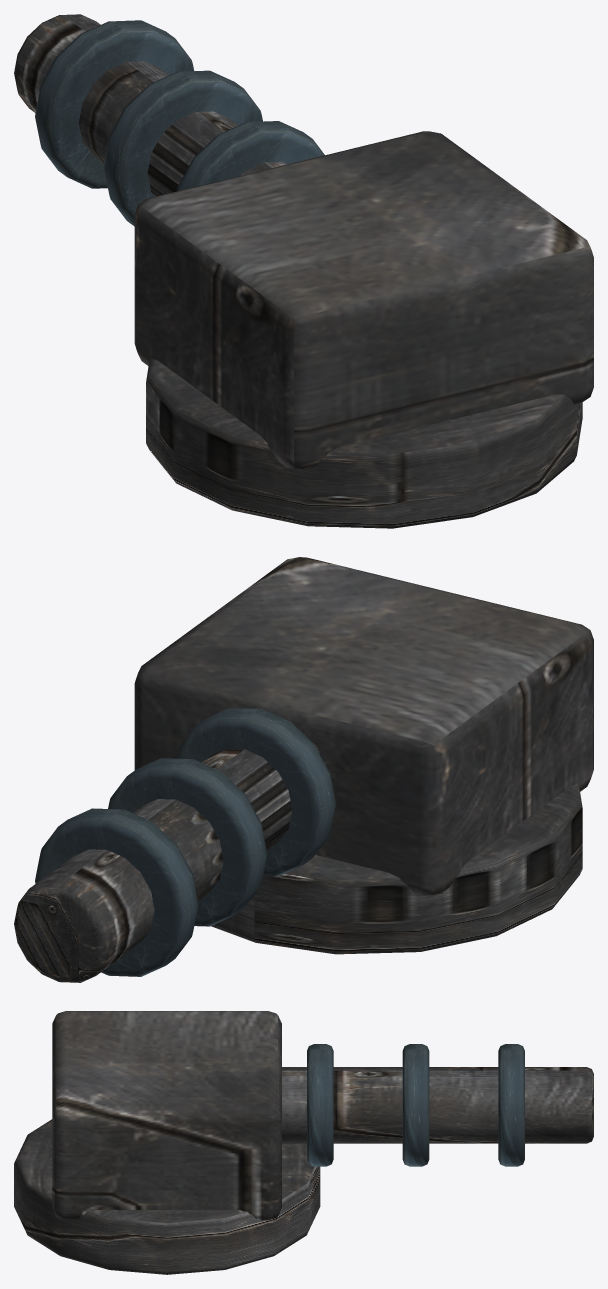
File: weapon-retro.gltf
3 views of the same model, one above another, from view 1: azimuth 30°, elevation 25°; view 2: azimuth 150°, elevation 25°; view 3: azimuth 270°, elevation 25° (orthographic). The views are drawn at different scales.
Parts seen in each view (by area): view 1: Pulse receiver, Turret ring.002, Ion barrel, Pulse coils.002, Pulse coils.001, Pulse coils; view 2: Pulse receiver, Turret ring.002, Ion barrel, Pulse coils.002, Pulse coils.001, Pulse coils; view 3: Pulse receiver, Turret ring.002, Ion barrel, Pulse coils.001, Pulse coils.002, Pulse coils.
Part boxes in pixels (box(x1,y1,x2,y2)): Pulse receiver: box(134, 131, 593, 469); Turret ring.002: box(146, 359, 582, 528); Ion barrel: box(14, 14, 287, 196); Pulse coils.002: box(35, 20, 194, 188); Pulse coils.001: box(103, 70, 262, 226); Pulse coils: box(177, 121, 324, 191); Pulse receiver: box(134, 557, 593, 895); Turret ring.002: box(211, 784, 582, 954); Ion barrel: box(14, 730, 325, 982); Pulse coils.002: box(35, 808, 198, 976); Pulse coils.001: box(108, 758, 267, 926); Pulse coils: box(176, 707, 335, 876); Pulse receiver: box(52, 1011, 281, 1220); Turret ring.002: box(14, 1119, 320, 1274); Ion barrel: box(282, 1067, 593, 1143); Pulse coils.001: box(402, 1044, 429, 1166); Pulse coils.002: box(498, 1044, 524, 1166); Pulse coils: box(307, 1044, 333, 1166).
Bounding box in the file's own units: 0.8 × 0.47 × 1.51.
2 materials, 2 textured.
